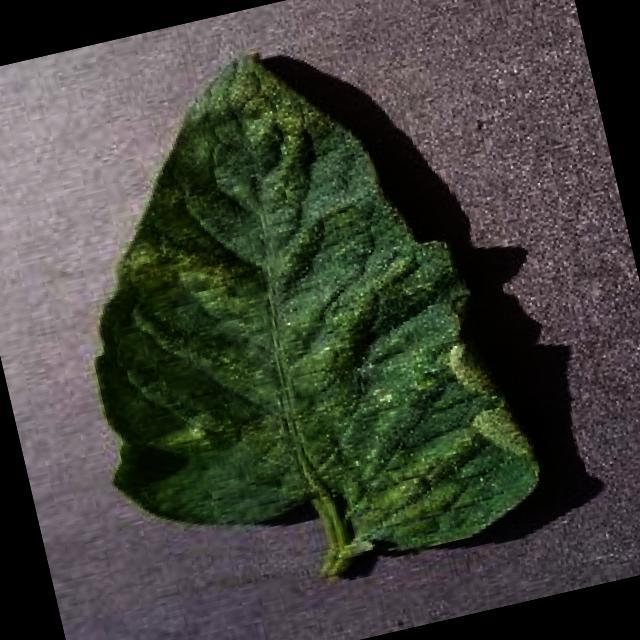Tomato spider mites leaf: (28, 7, 556, 612)
